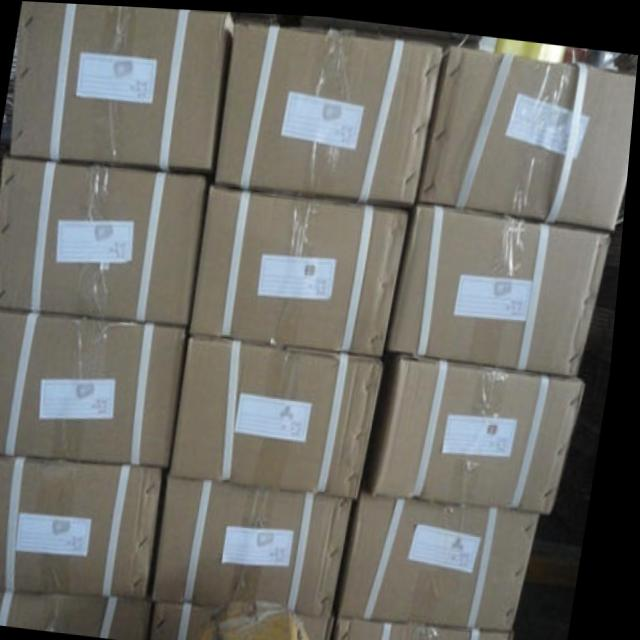box: (217, 20, 444, 200), (419, 42, 637, 223), (12, 1, 234, 172), (390, 200, 614, 368), (195, 181, 411, 350), (0, 155, 212, 322), (376, 350, 591, 508), (177, 334, 389, 494), (0, 305, 193, 465), (161, 474, 362, 613), (350, 489, 548, 625), (0, 452, 171, 594), (0, 589, 163, 638), (161, 597, 345, 640), (346, 612, 524, 640)
